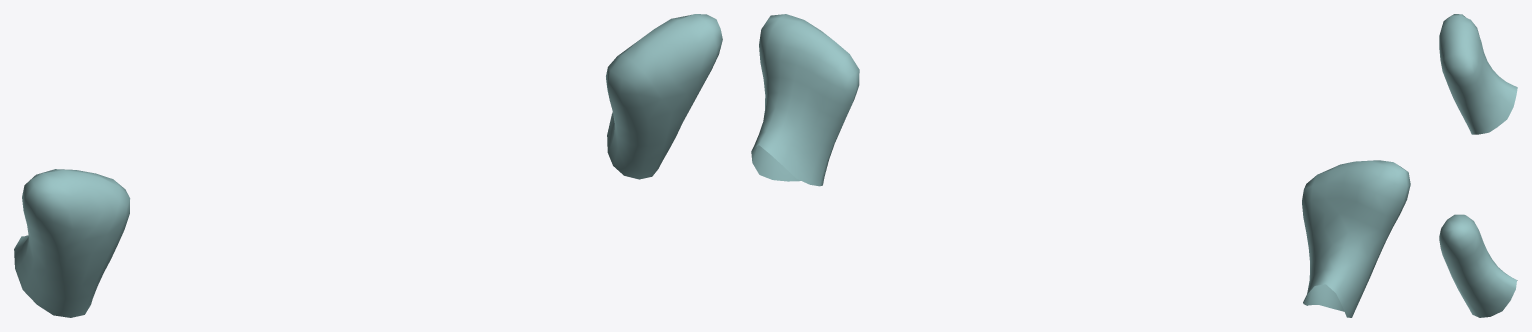
File: CondlarProcess.fbx
3 renders of one model, left to right at view 1: azimuth 30°, elevation 25°; view 2: azimuth 150°, elevation 25°; view 3: azimuth 270°, elevation 25°, orthographic. The views are drawn at different scales.
Visible parts, largest first — view 1: CondlarProcess; view 2: CondlarProcess; view 3: CondlarProcess.
Boxes of the visible parts, bbox=[...] form: CondlarProcess: bbox=[14, 14, 722, 317]; CondlarProcess: bbox=[751, 14, 1410, 317]; CondlarProcess: bbox=[1439, 14, 1517, 317].
Bounding box in the file's own units: 545 × 120 × 82.42.
